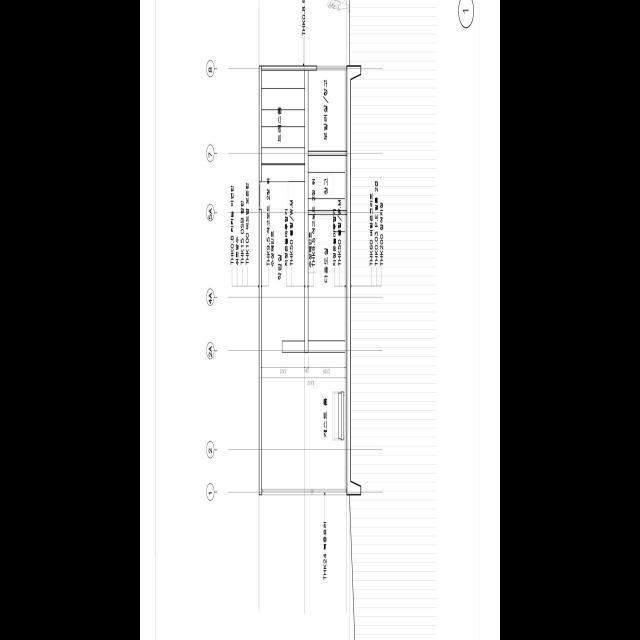background: (140, 0, 500, 640)
space_bedroom: (262, 352, 347, 488)
space_dressroom: (262, 70, 305, 163)
space_multipurpose_space: (308, 214, 347, 340)
space_other: (262, 164, 305, 352), (308, 70, 347, 150), (308, 155, 347, 210)
